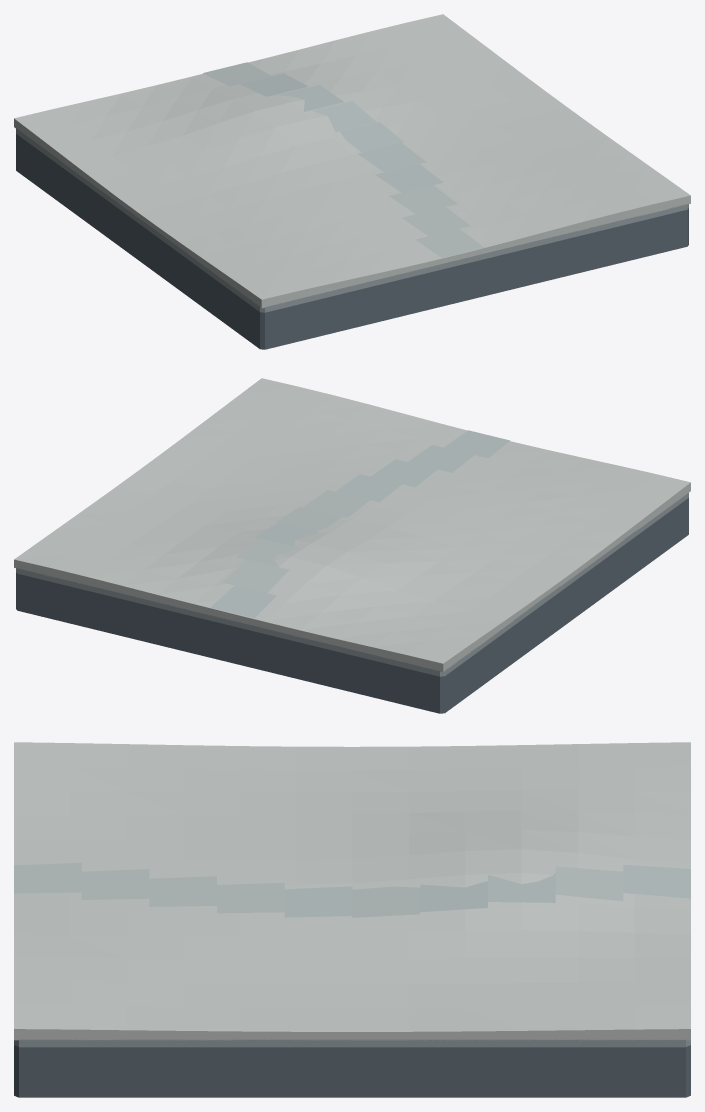
3 views of the same model, one above another, from view 1: azimuth 30°, elevation 25°; view 2: azimuth 150°, elevation 25°; view 3: azimuth 270°, elevation 25° (orthographic). The views are drawn at different scales.
Parts seen in each view (by area): view 1: B03_雪地弯径; view 2: B03_雪地弯径; view 3: B03_雪地弯径.
Part boxes in pixels (x1=…): B03_雪地弯径: x1=14, y1=14, x2=690, y2=349; B03_雪地弯径: x1=14, y1=378, x2=690, y2=713; B03_雪地弯径: x1=14, y1=742, x2=690, y2=1097.
Bounding box in the file's own units: 8 × 1.07 × 8.
